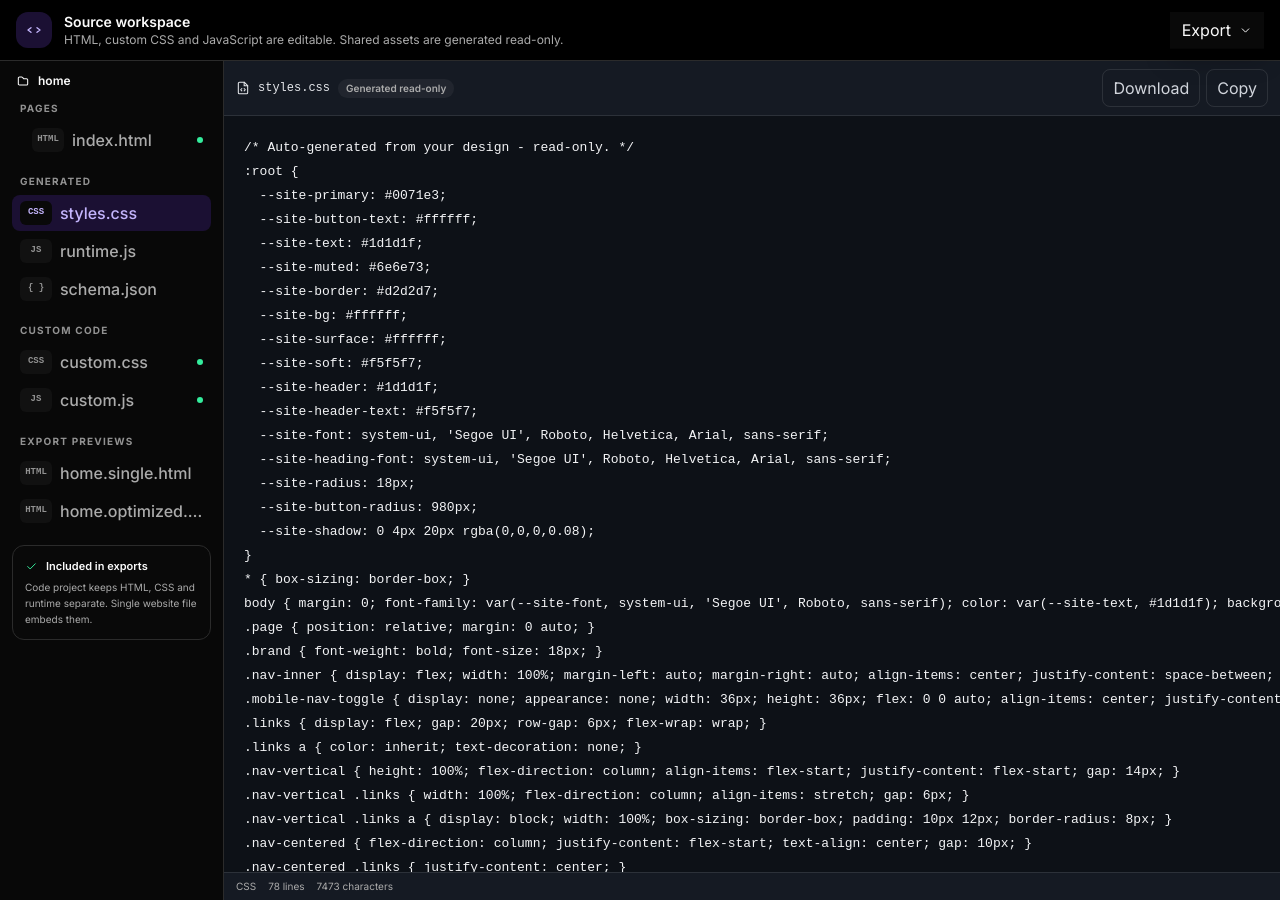
Source workspace › explains export choices in one neutral menu
Click the button "Export" at (1217, 30), box [1170,12,1264,48]
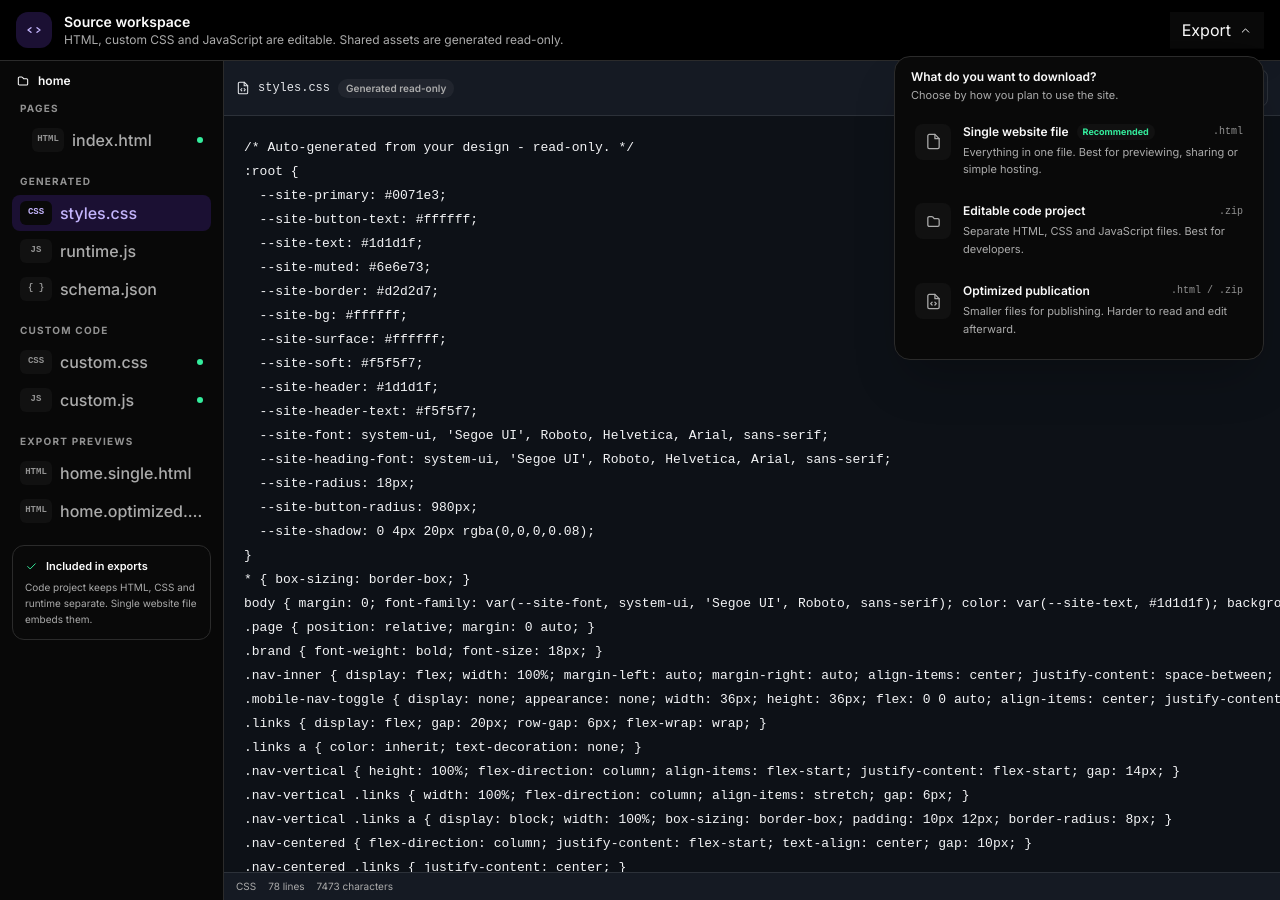
expect the menu named "Choose an export format" is shown: met, box [894,56,1264,360]
expect the menu item "Single website file" is shown: met, box [903,112,1255,191]
expect the text "Best for previewing, sharing or simple hosting" is shown: met, box [963,144,1238,176]
